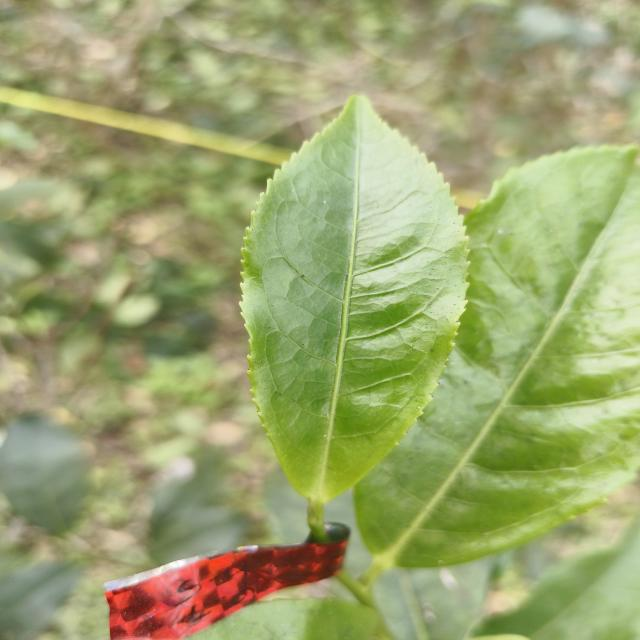Leaf: (355, 146, 640, 577), (242, 97, 466, 509), (480, 521, 640, 640), (0, 414, 89, 535), (0, 561, 81, 640), (150, 507, 244, 564)
